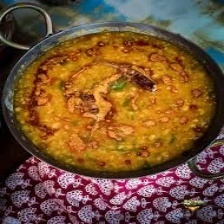sabzi: (16, 29, 218, 172)
